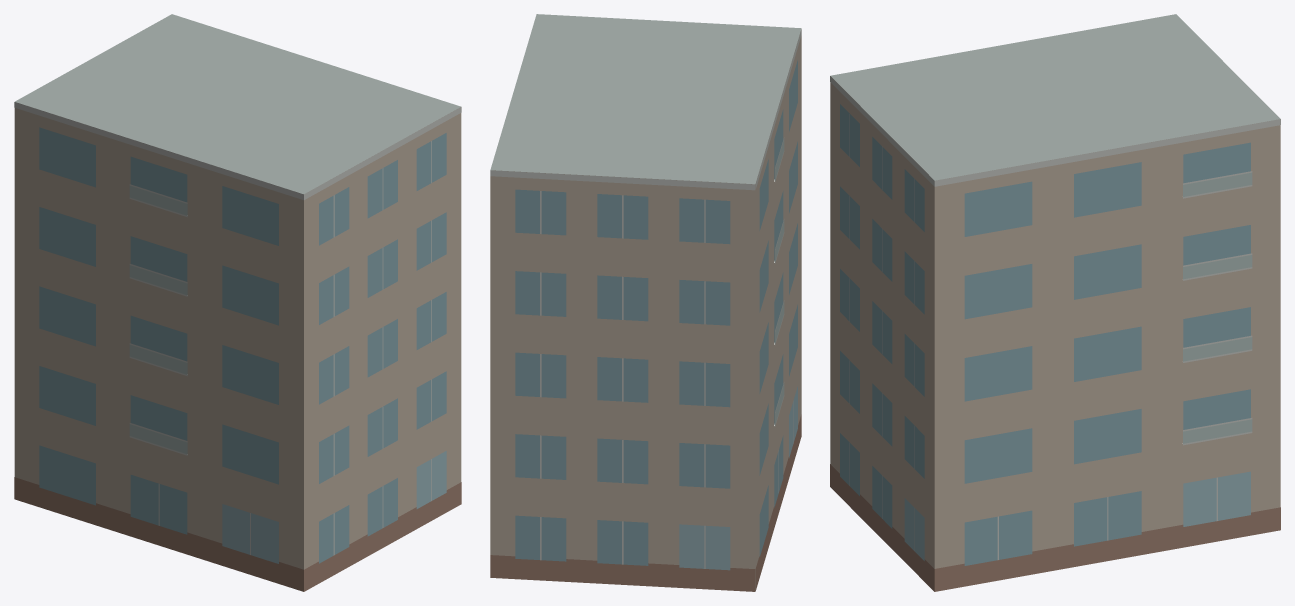
Rendered from survey-upis-32714409.glb.
The picture shows the model from 3 angles, left to right: view 1: azimuth 30°, elevation 25°; view 2: azimuth 150°, elevation 25°; view 3: azimuth 270°, elevation 25°; orthographic projection. The views are drawn at different scales.
Visible parts, largest first — view 1: survey-upis-32714409.tmp; view 2: survey-upis-32714409.tmp; view 3: survey-upis-32714409.tmp.
Part boxes in pixels (x1,y1,x2,y2): survey-upis-32714409.tmp: (14,14,461,591); survey-upis-32714409.tmp: (490,14,801,591); survey-upis-32714409.tmp: (830,14,1280,591).
Bounding box in the file's own units: 14.27 × 16.4 × 16.3.
